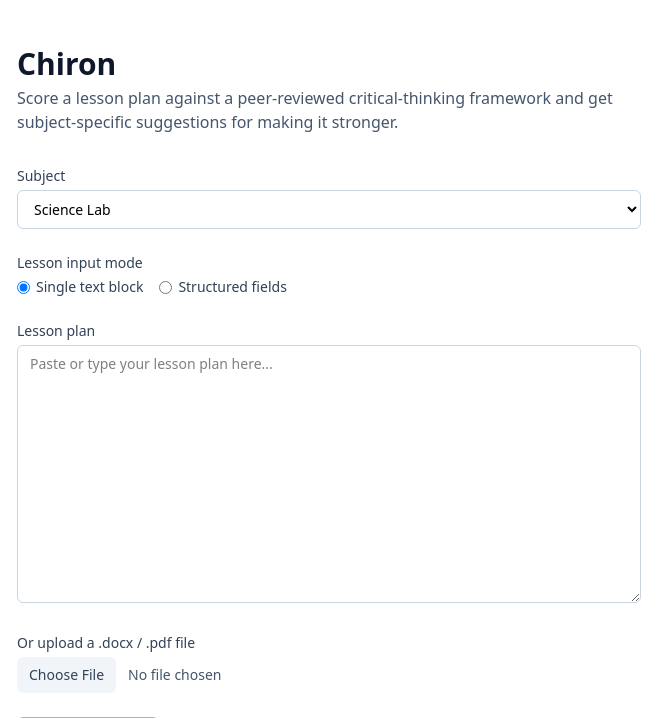
it: lesson analyzer — input to score to revise loop › lets a signed-in user save the scored lesson, posting the result to the save endpoint
In the text box labelled "Lesson plan": coordinates (329, 474) [17,345,641,603], type "Students collect real data."
(page scrolled)
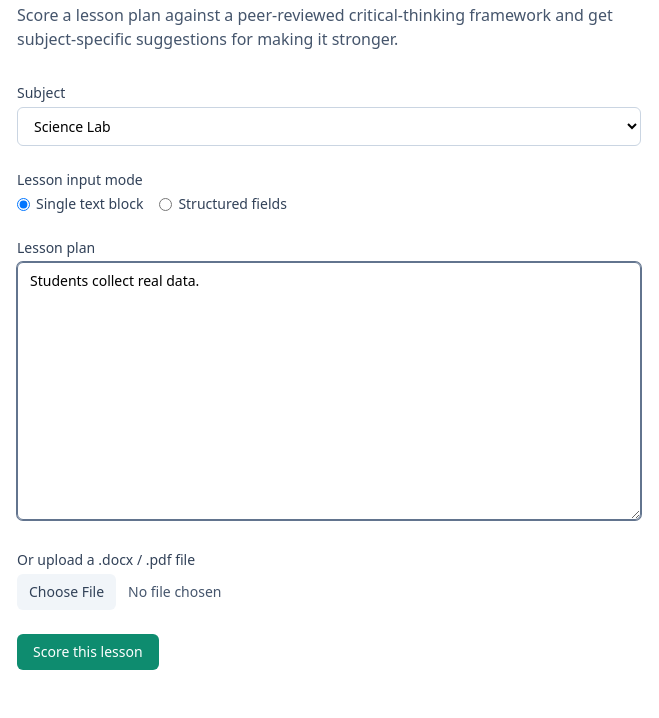
Click the button "Score this lesson": coordinates (88, 652) [17,634,159,670]
(page scrolled)
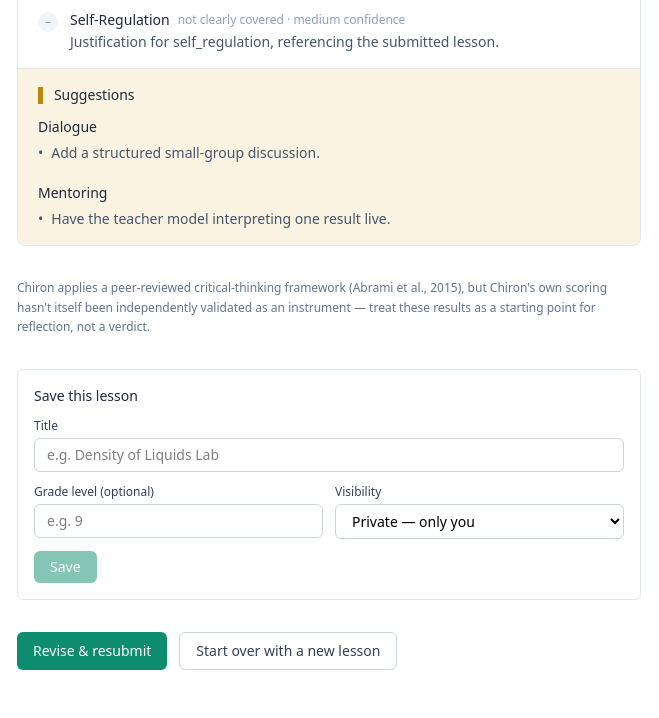
Now the heading "Save this lesson" is shown, box [34,386,138,404]
In the field labelled "Title": coordinates (329, 454) [34,438,624,472], type "Density Lab"
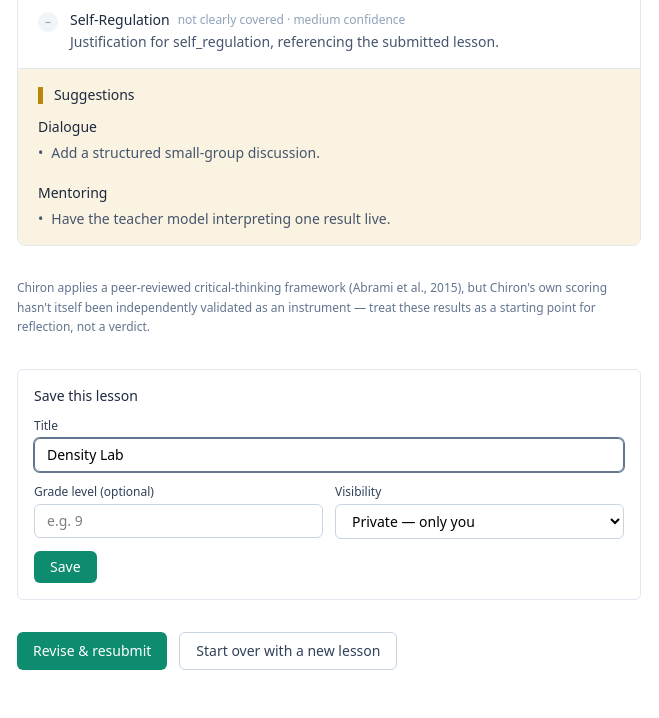
Click the button "Save": coordinates (65, 566) [34,550,97,582]
(page scrolled)
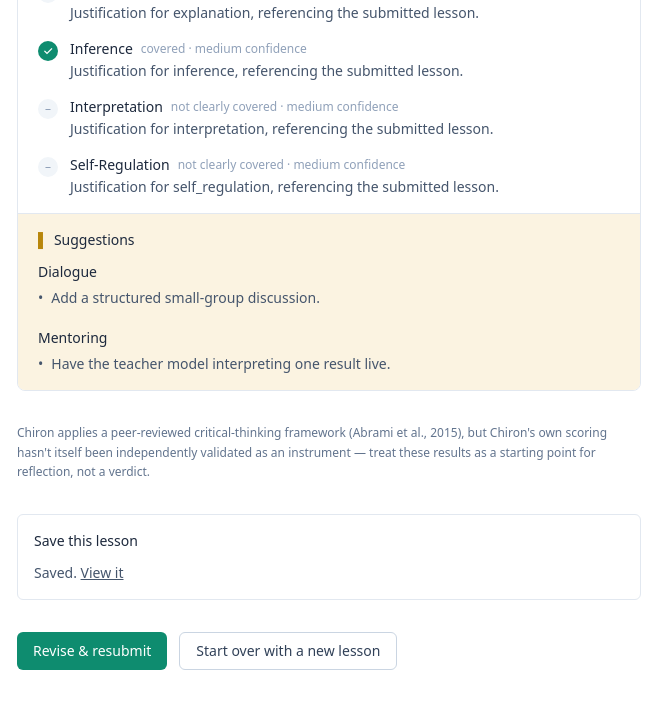
Now the message shows "Saved.", box [34,562,81,582]
